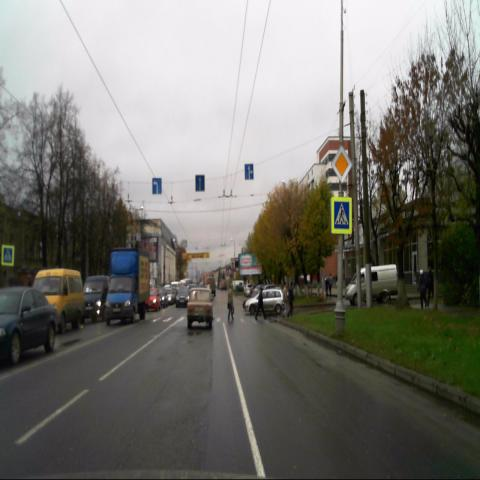5_19_1: (331, 197, 352, 233)
